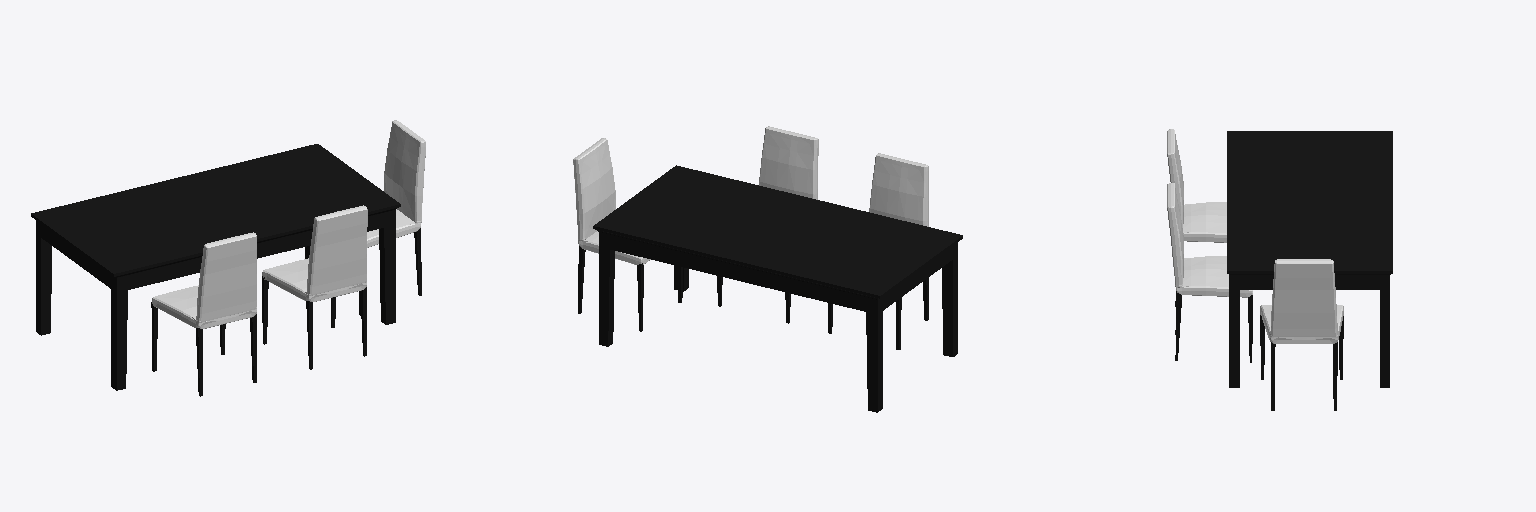
The model's file is diningTable.obj.
3 views of the same model, side by side, from view 1: azimuth 30°, elevation 25°; view 2: azimuth 150°, elevation 25°; view 3: azimuth 270°, elevation 25° (orthographic).
Visible parts, largest first — view 1: Layer_ASHADE, Layer_0; view 2: Layer_ASHADE, Layer_0; view 3: Layer_ASHADE, Layer_0.
Boxes of the visible parts, x1,y1,x2,y2 form: Layer_ASHADE: [31, 144, 400, 390]; Layer_0: [151, 120, 425, 396]; Layer_ASHADE: [593, 165, 962, 412]; Layer_0: [573, 126, 928, 349]; Layer_ASHADE: [1227, 131, 1392, 387]; Layer_0: [1167, 129, 1343, 410].
Bounding box in the file's own units: 2234 × 963 × 1292.